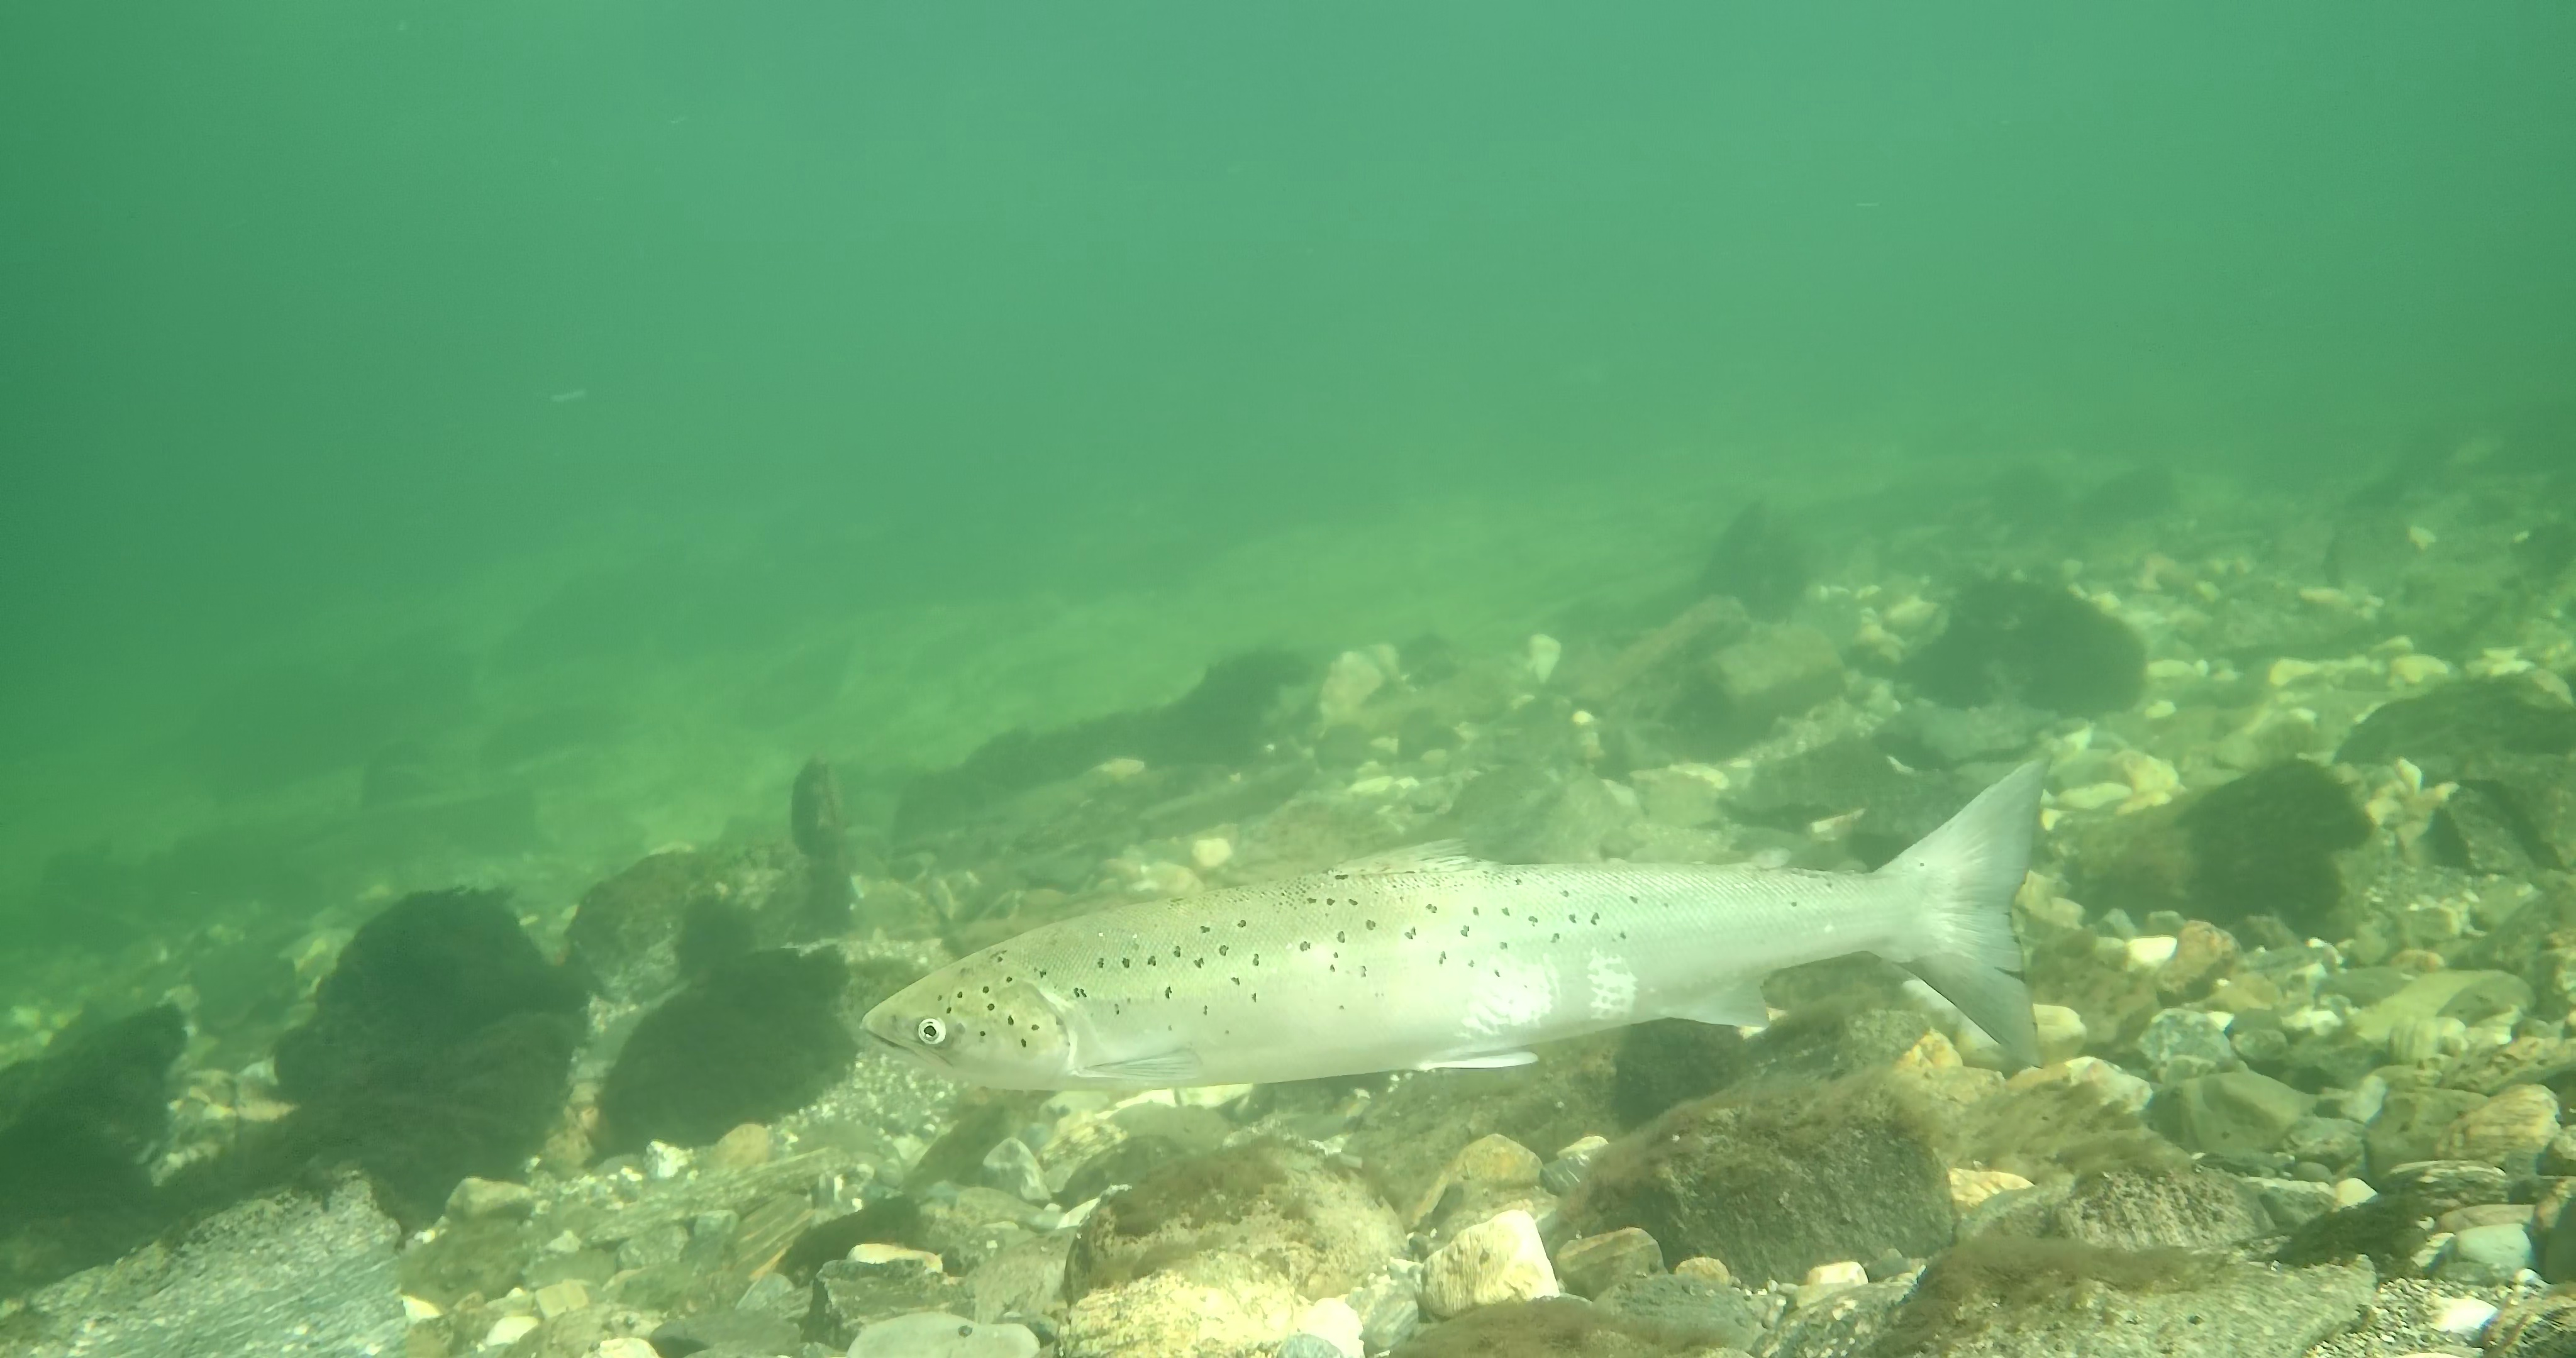salmon: (859, 750, 2053, 1094)
